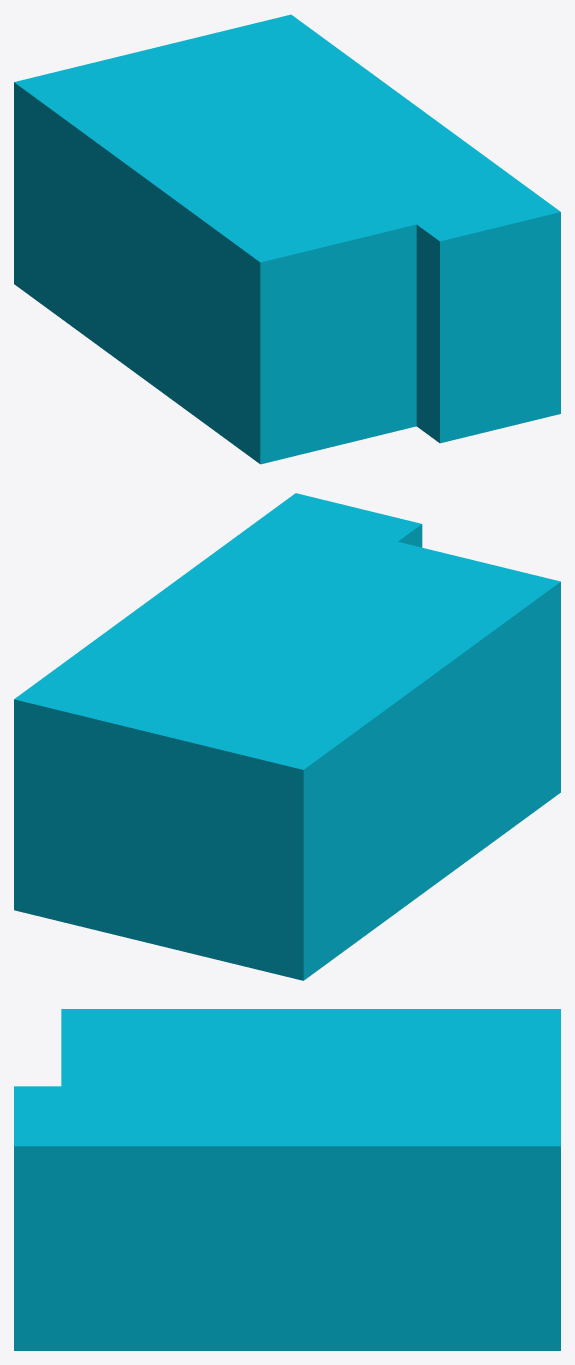
File: furnishingelement-1525-x-2007mm-queen.glb
3 views of the same model, one above another, from view 1: azimuth 30°, elevation 25°; view 2: azimuth 150°, elevation 25°; view 3: azimuth 270°, elevation 25° (orthographic). The views are drawn at different scales.
Visible parts, largest first — view 1: 0BTBFw6f90Nfh9rP1dl_39; view 2: 0BTBFw6f90Nfh9rP1dl_39; view 3: 0BTBFw6f90Nfh9rP1dl_39.
Boxes of the visible parts, x1,y1,x2,y2 form: 0BTBFw6f90Nfh9rP1dl_39: [14, 14, 560, 464]; 0BTBFw6f90Nfh9rP1dl_39: [14, 493, 560, 980]; 0BTBFw6f90Nfh9rP1dl_39: [14, 1009, 560, 1350].
Size of the model in its own units: 3.71 by 2.6 by 6.25.
